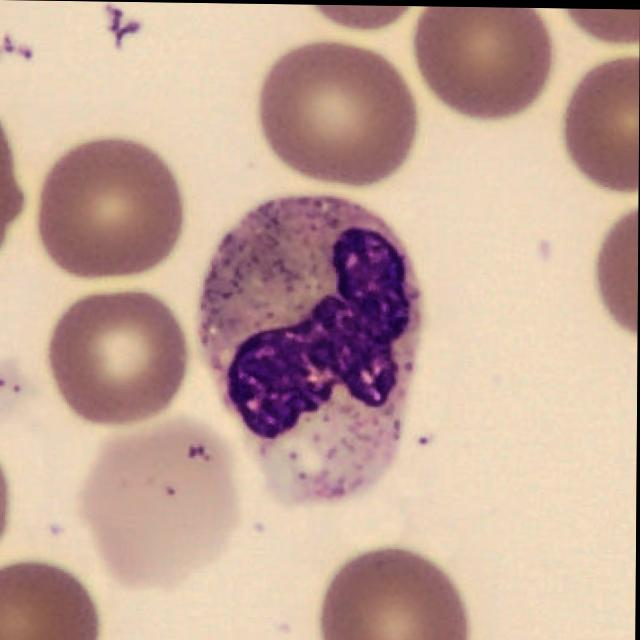Neutrofilo segmentado: (198, 193, 423, 491)
